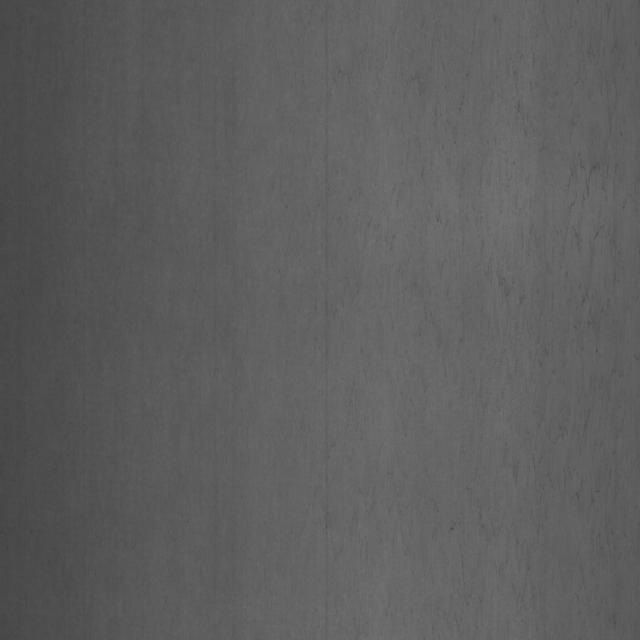inclusion: (362, 27, 624, 580)
